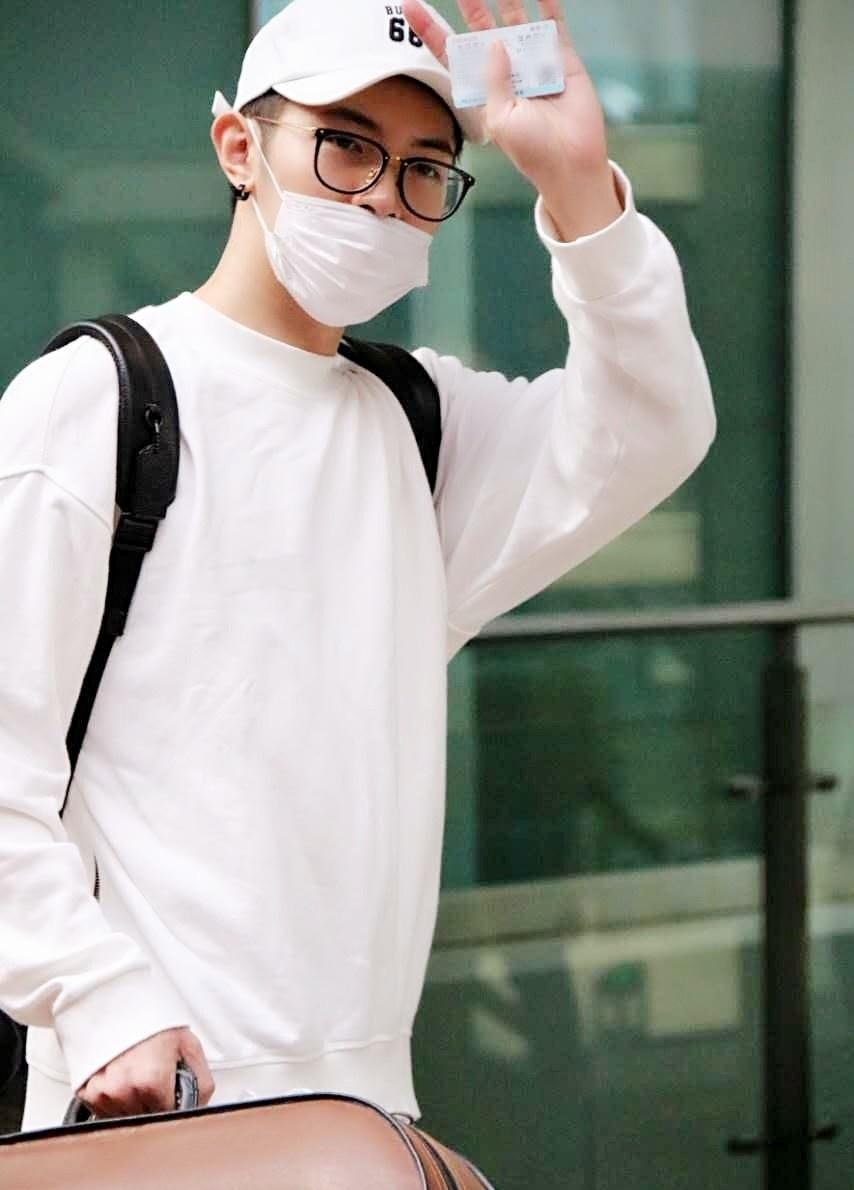WRONG: (253, 103, 469, 319)
